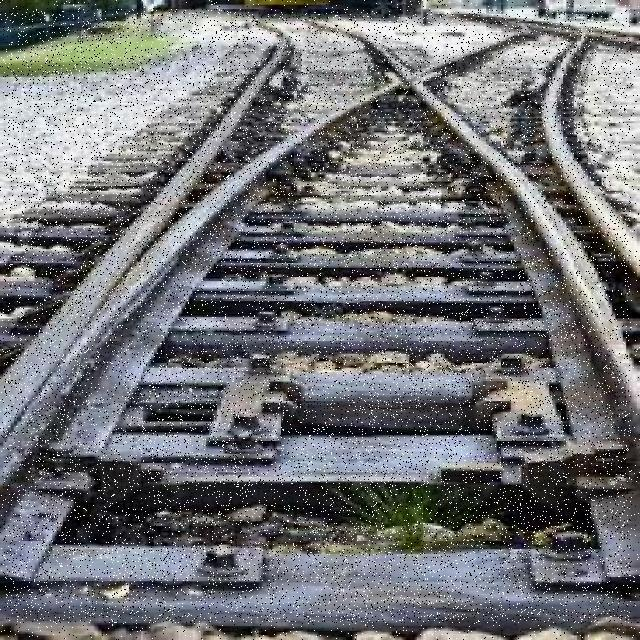rail: (4, 10, 632, 624)
